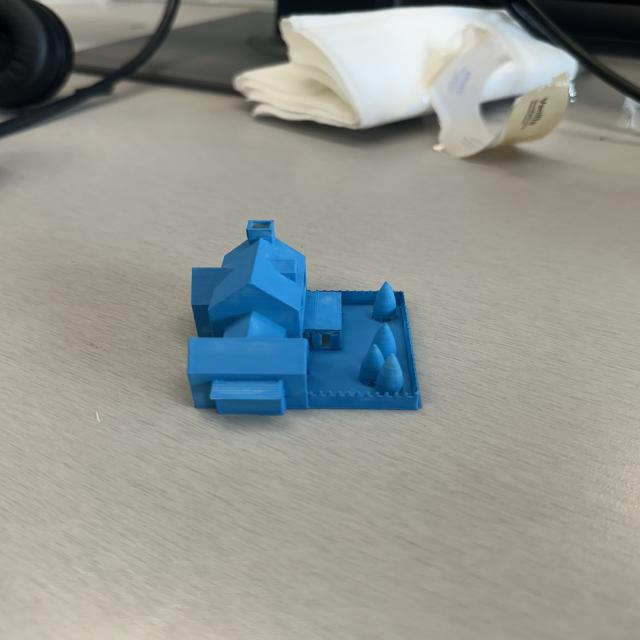house: (188, 219, 426, 417)
